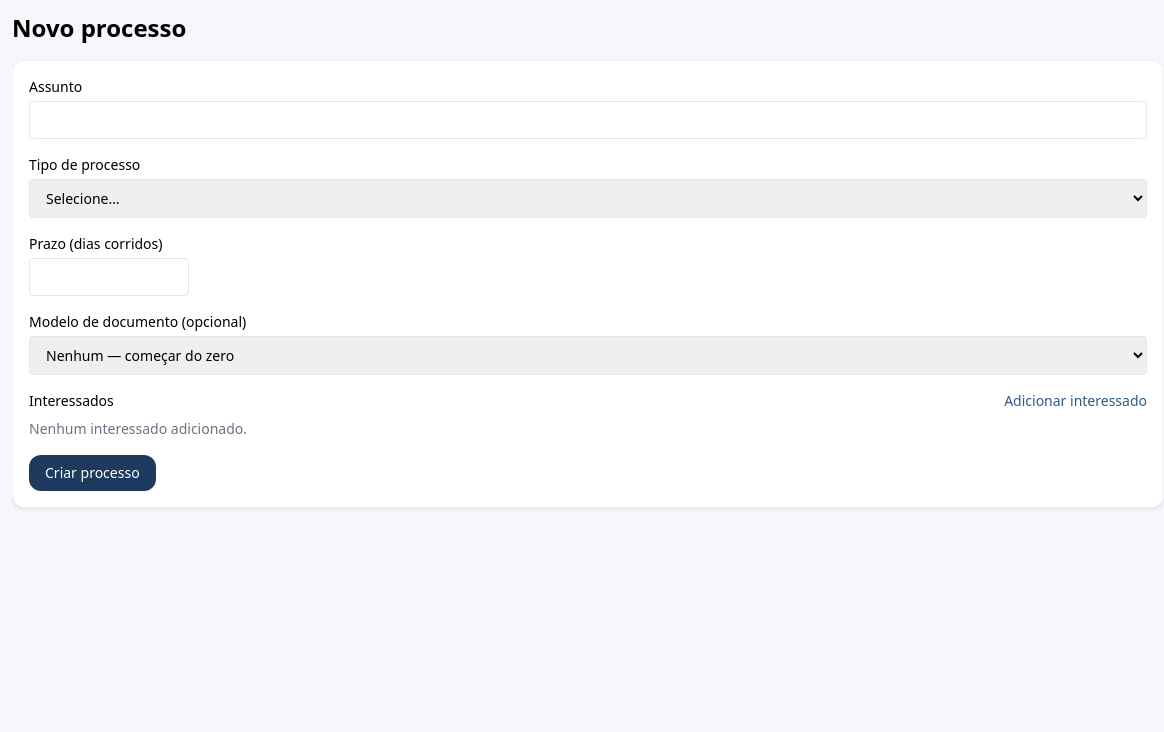
Test case: NovoProcessoPage › exibe o erro de CPF inválido retornado pela API (PRD US 2.1 Cen.3)
Type "Pedido de compra" into the field labelled "Assunto" at [588, 120], box [29,101,1147,139]
Select "Licitação" in the dropdown labelled "Tipo de processo" at [588, 198], box [29,179,1147,218]
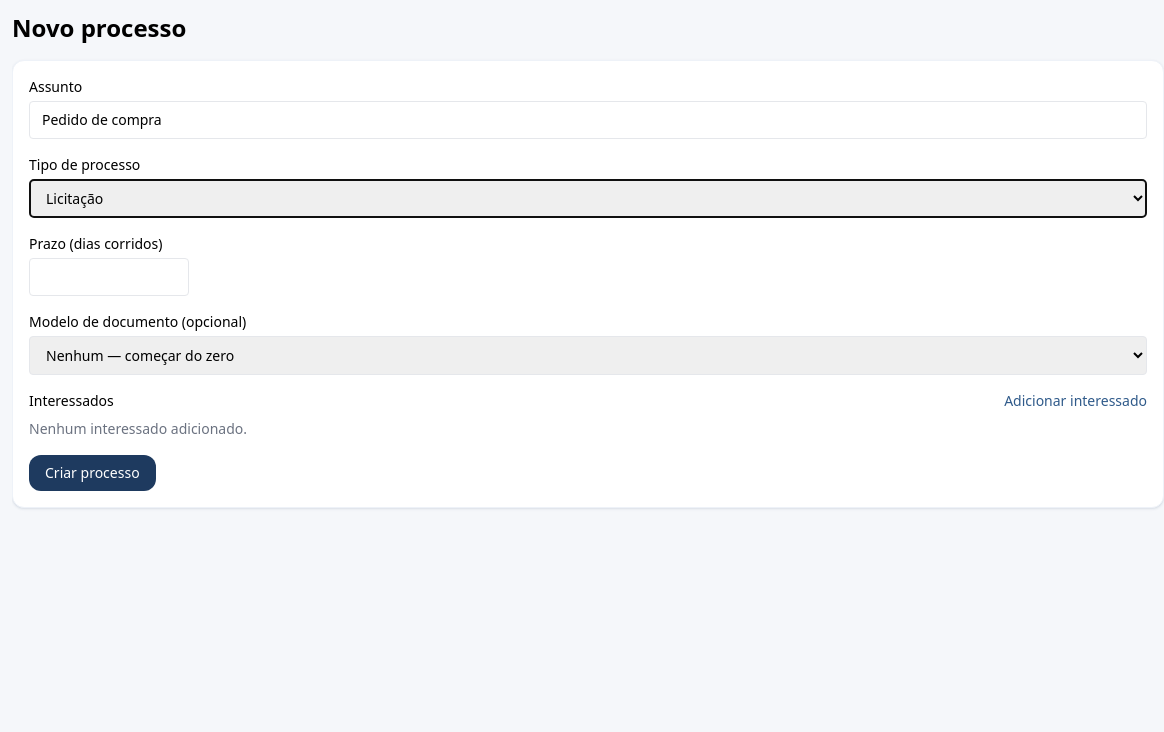
Type "10" into the number field labelled "Prazo (dias corridos)" at [109, 277], box [29,258,189,296]
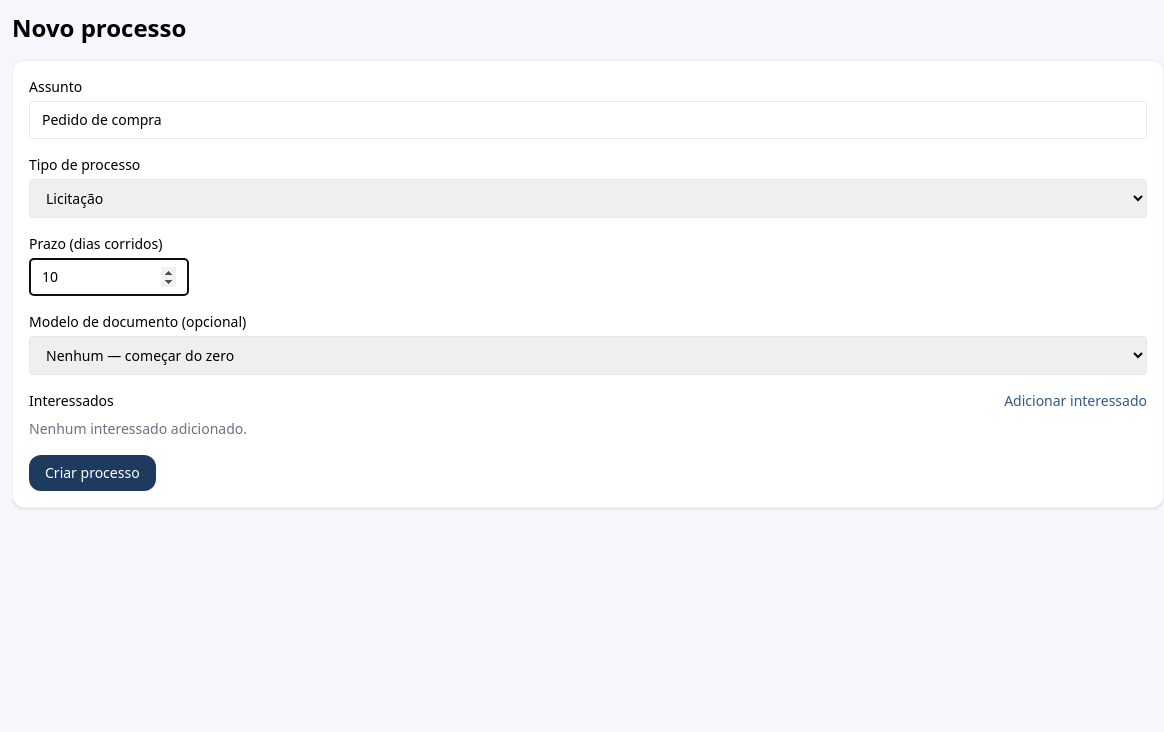
Click the button "Adicionar interessado" at [1076, 401], box [1004,391,1147,411]
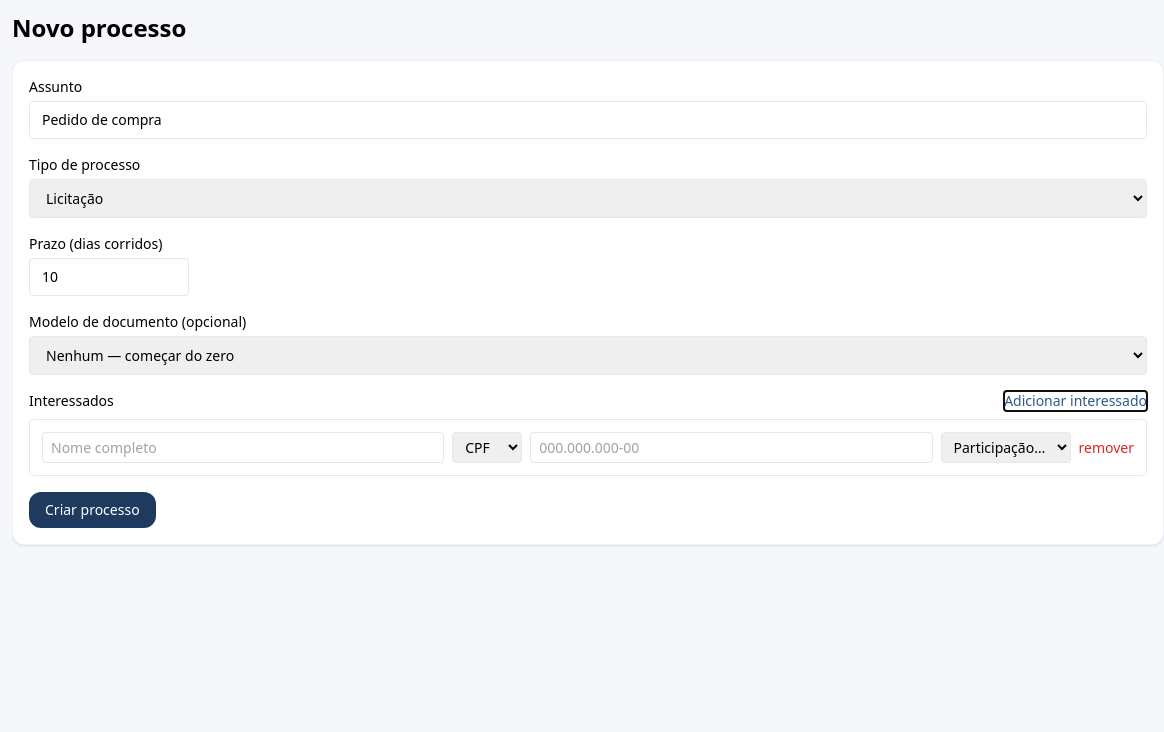
Type "Fulano de Tal" into the field named "Nome do interessado" at [243, 448], box [42,432,444,463]
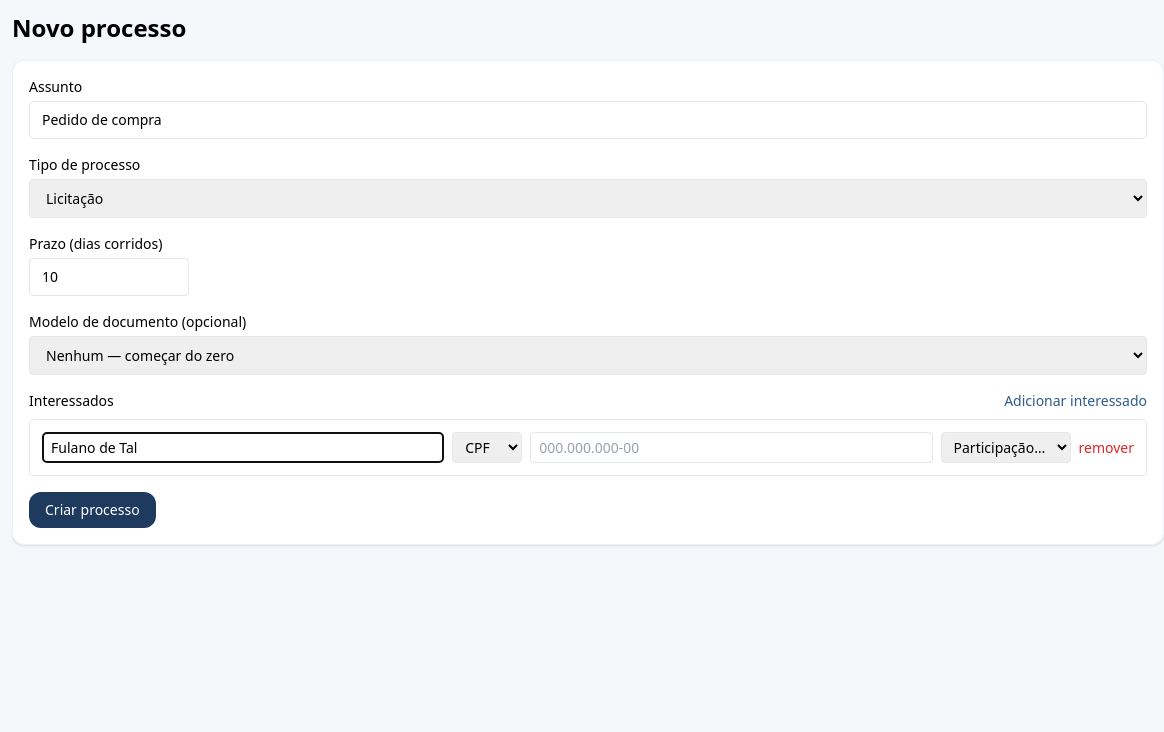
Type "11111111111" into the field named "Documento do interessado" at [731, 448], box [530,432,933,463]
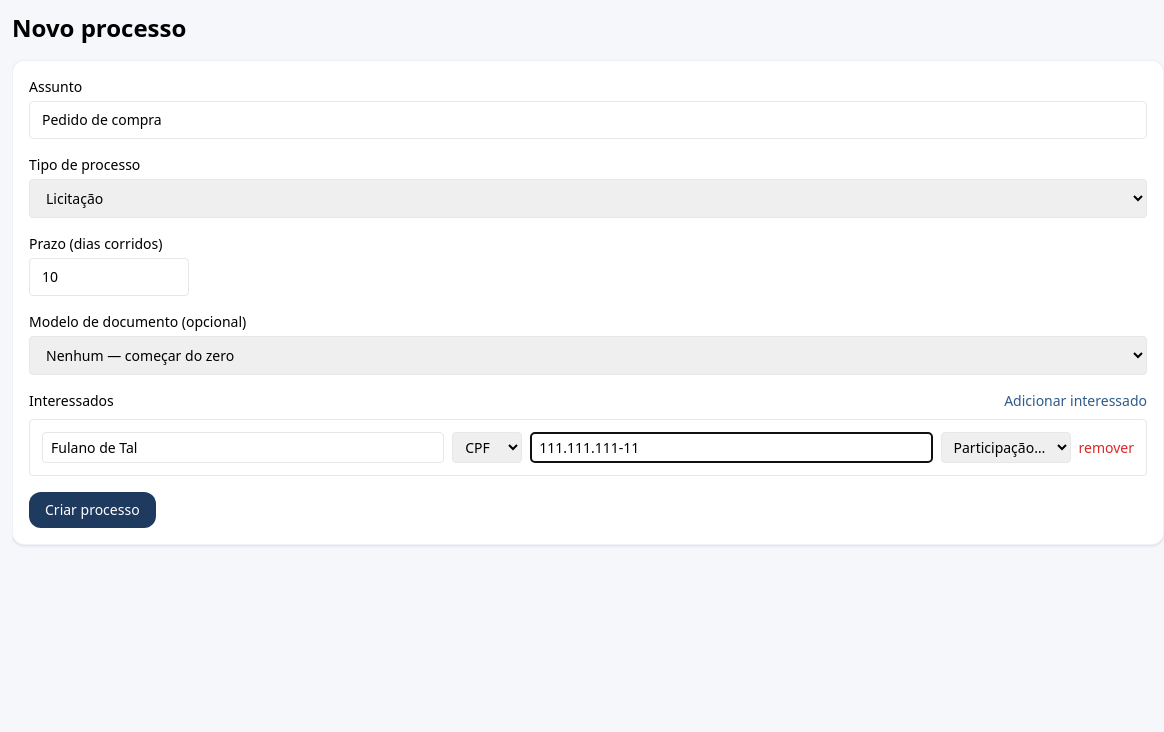
Click the button "Criar processo" at [92, 510], box [29,492,156,528]
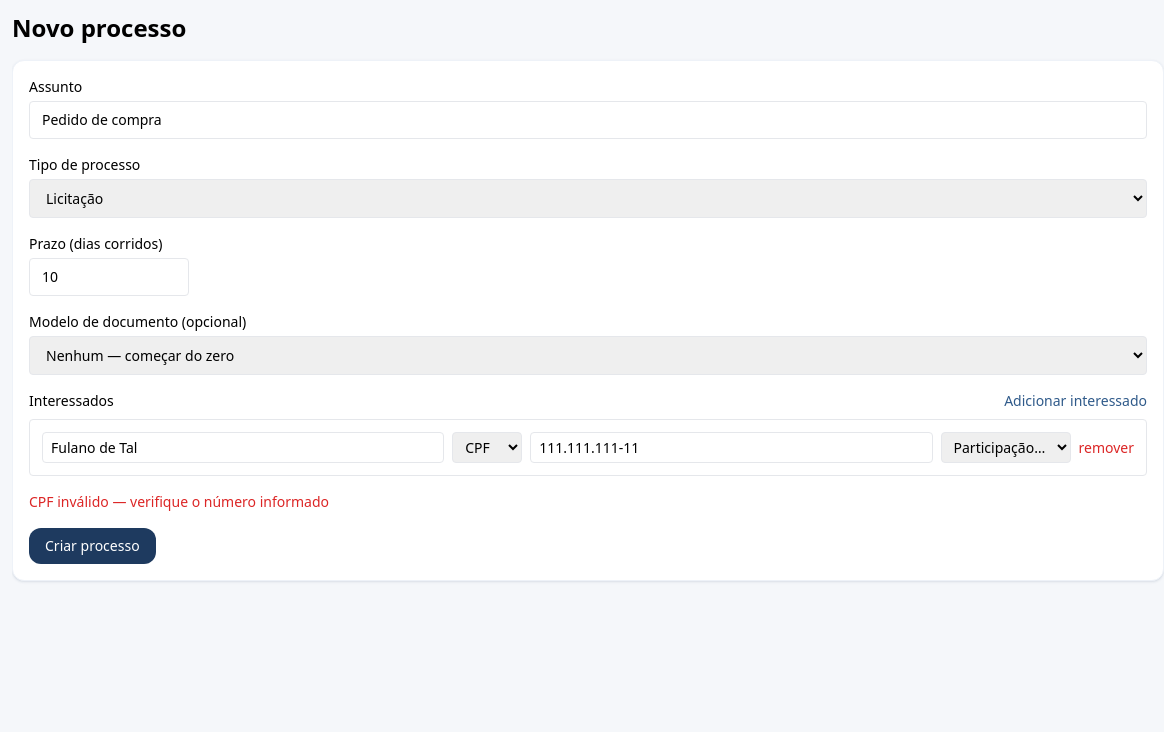
Expected: the text "CPF inválido — verifique o número informado" is shown, [29,492,329,511]
